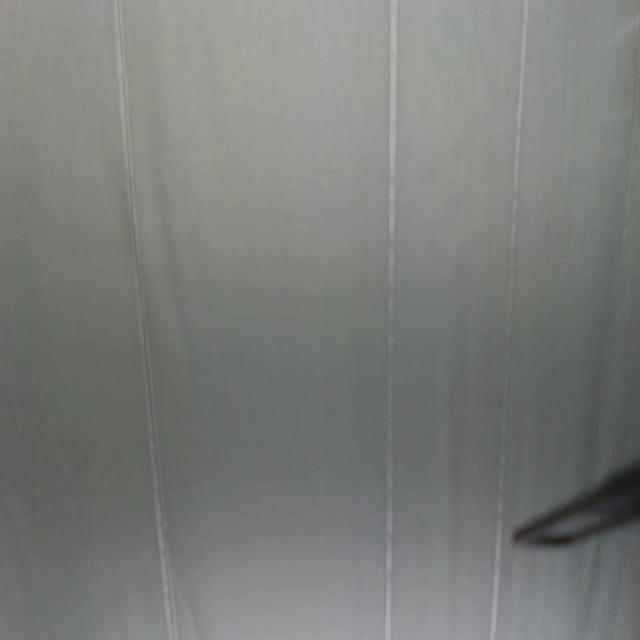crease: (114, 2, 178, 639), (487, 1, 529, 640), (382, 0, 398, 640)
